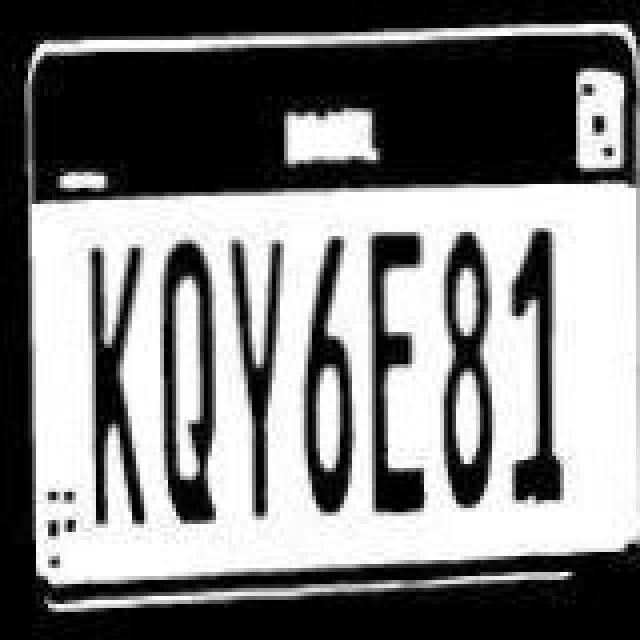1: (506, 198, 570, 514)
6: (296, 232, 364, 516)
8: (438, 212, 494, 520)
E: (366, 224, 430, 516)
K: (88, 234, 148, 534)
Q: (158, 236, 222, 528)
Y: (226, 226, 290, 522)
